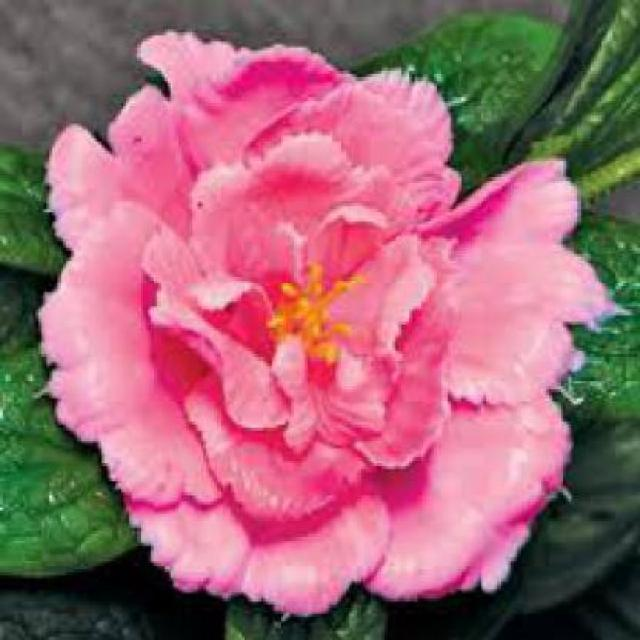Flower: (36, 26, 635, 617), (266, 257, 368, 366)
